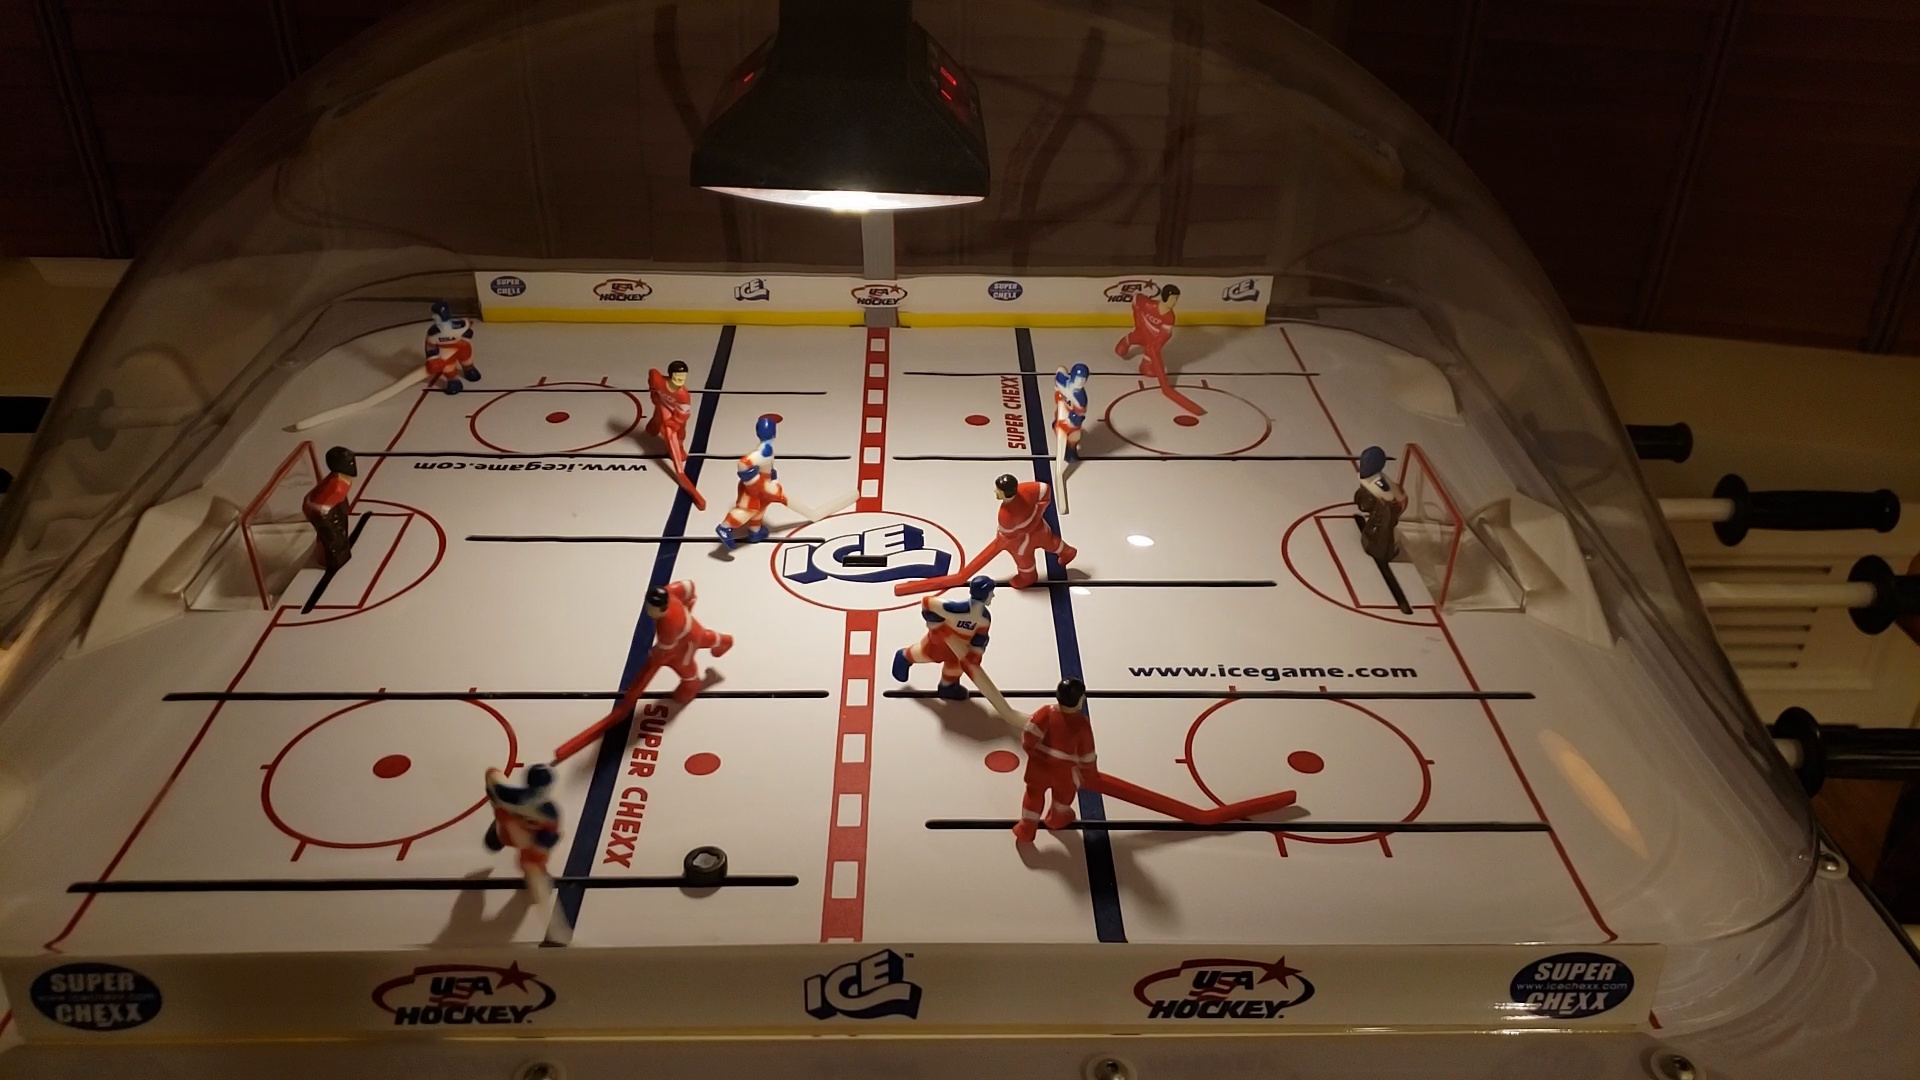puck: (680, 844, 729, 890)
